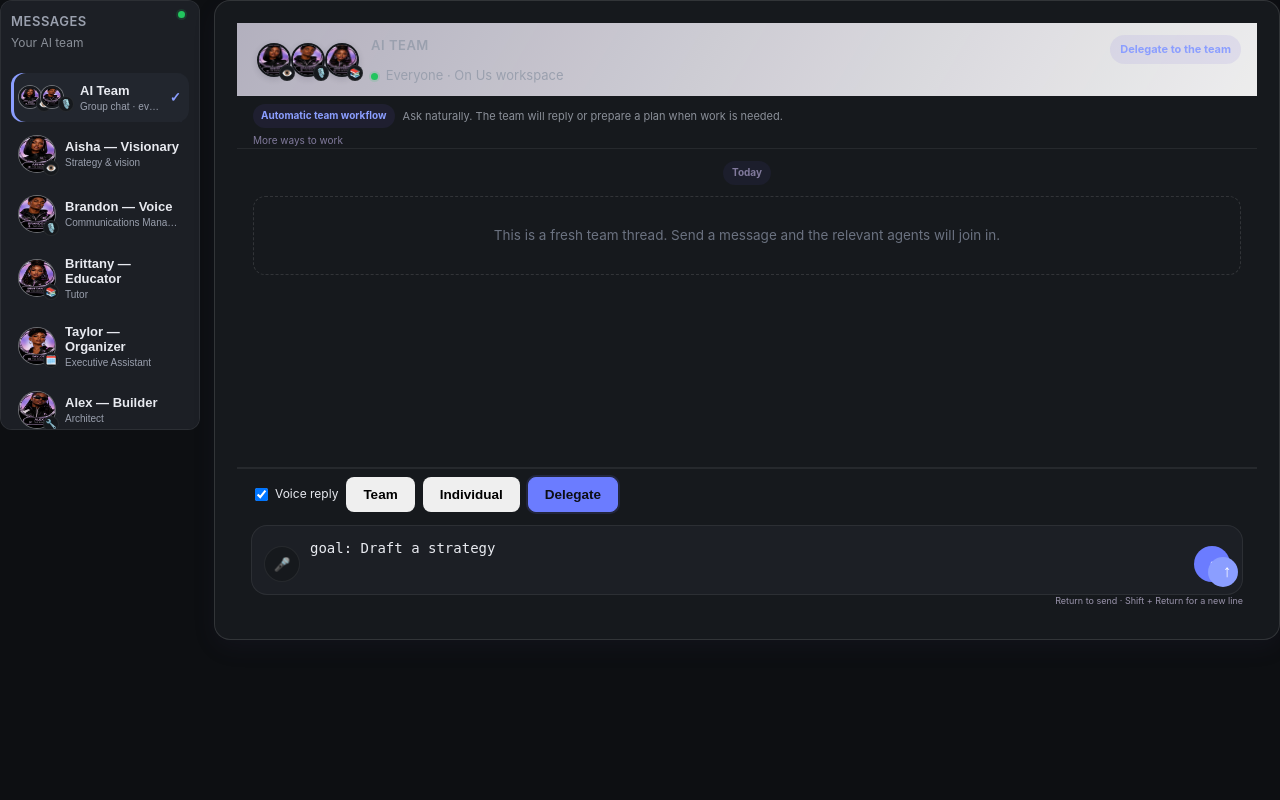
Test: Team Chat (component) › shows an explicit failure on structured planning error instead of falling back to TeamGoals
The width and height of the screenshot is (1280, 800).
Earlier steps of the test are not shown.
Click the button with test id "team-chat-delegate": coordinates (1223, 572) [1208,557,1238,587]
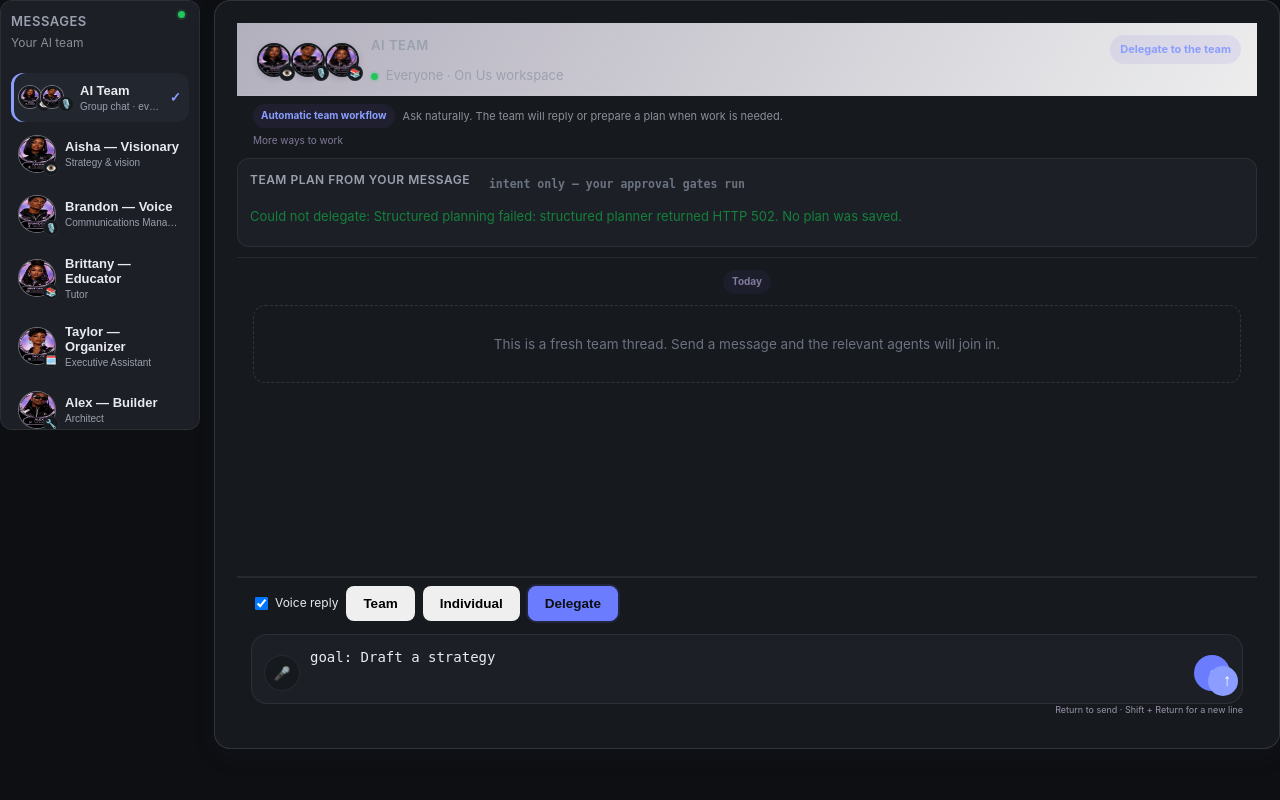
expect the message with test id "delegate-msg" shows "Could not delegate": met, box [250,208,902,224]
expect the message with test id "delegate-msg" shows "No plan was saved": met, box [250,208,902,224]
